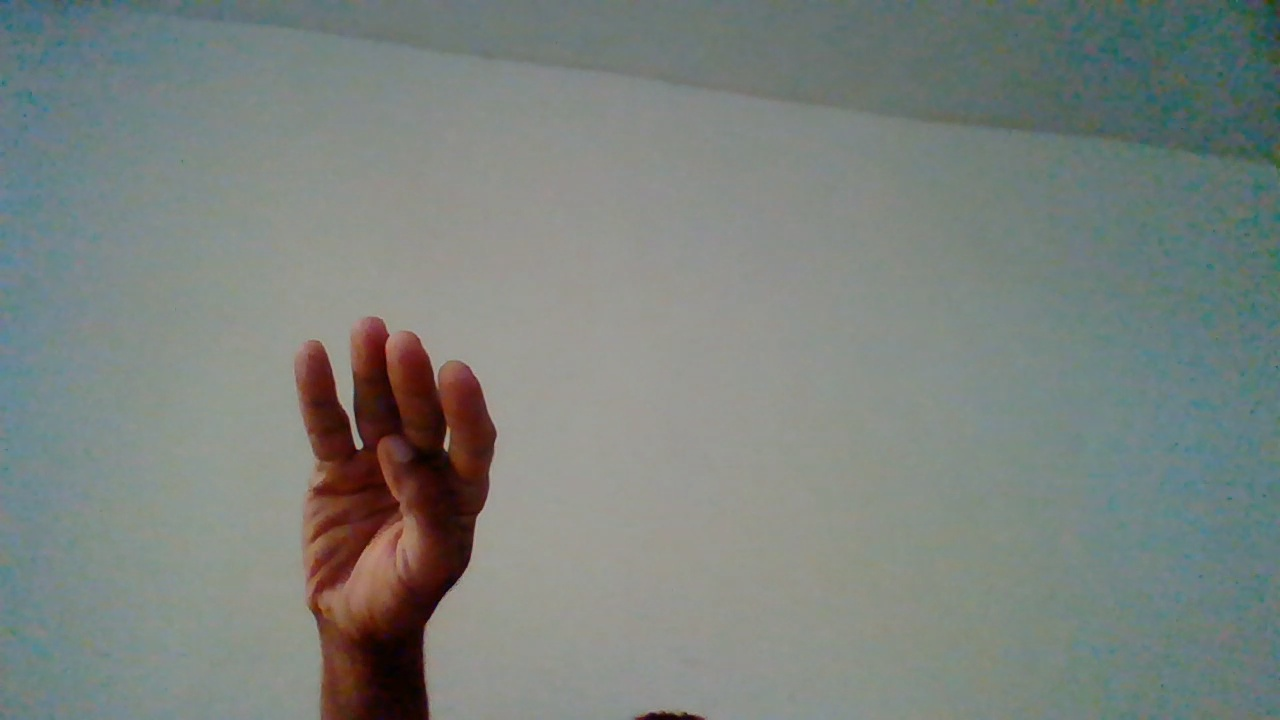me: (277, 316, 498, 713)
